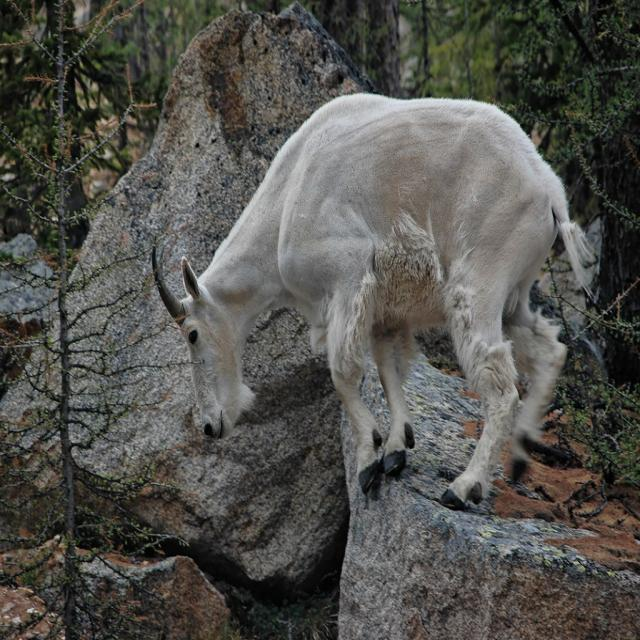Goat: (152, 91, 592, 515)
